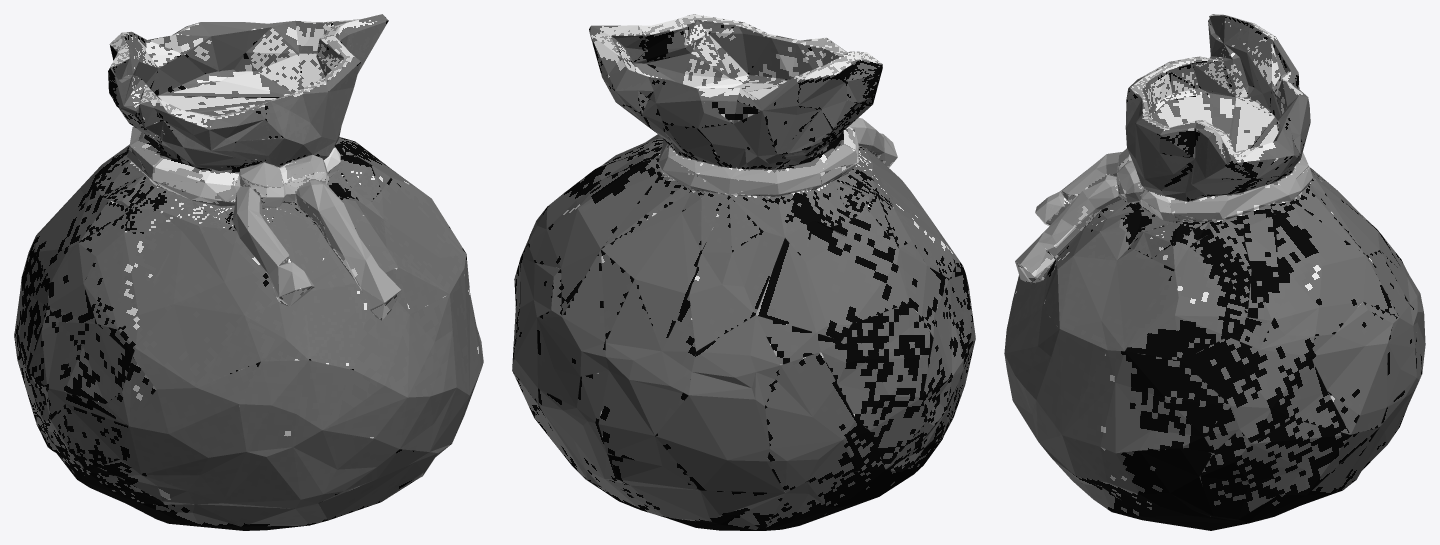
3 renders of one model, left to right at view 1: azimuth 30°, elevation 25°; view 2: azimuth 150°, elevation 25°; view 3: azimuth 270°, elevation 25°, orthographic. The views are drawn at different scales.
Parts seen in each view (by area): view 1: OBJ08f; view 2: OBJ08f; view 3: OBJ08f.
Boxes of the visible parts, left/top/right/bottom form: OBJ08f: left=14, top=14, right=483, bottom=530; OBJ08f: left=512, top=14, right=975, bottom=530; OBJ08f: left=1004, top=14, right=1425, bottom=530.
Bounding box in the file's own units: 0.2961 × 0.3243 × 0.2897.
1 material, 1 textured.
